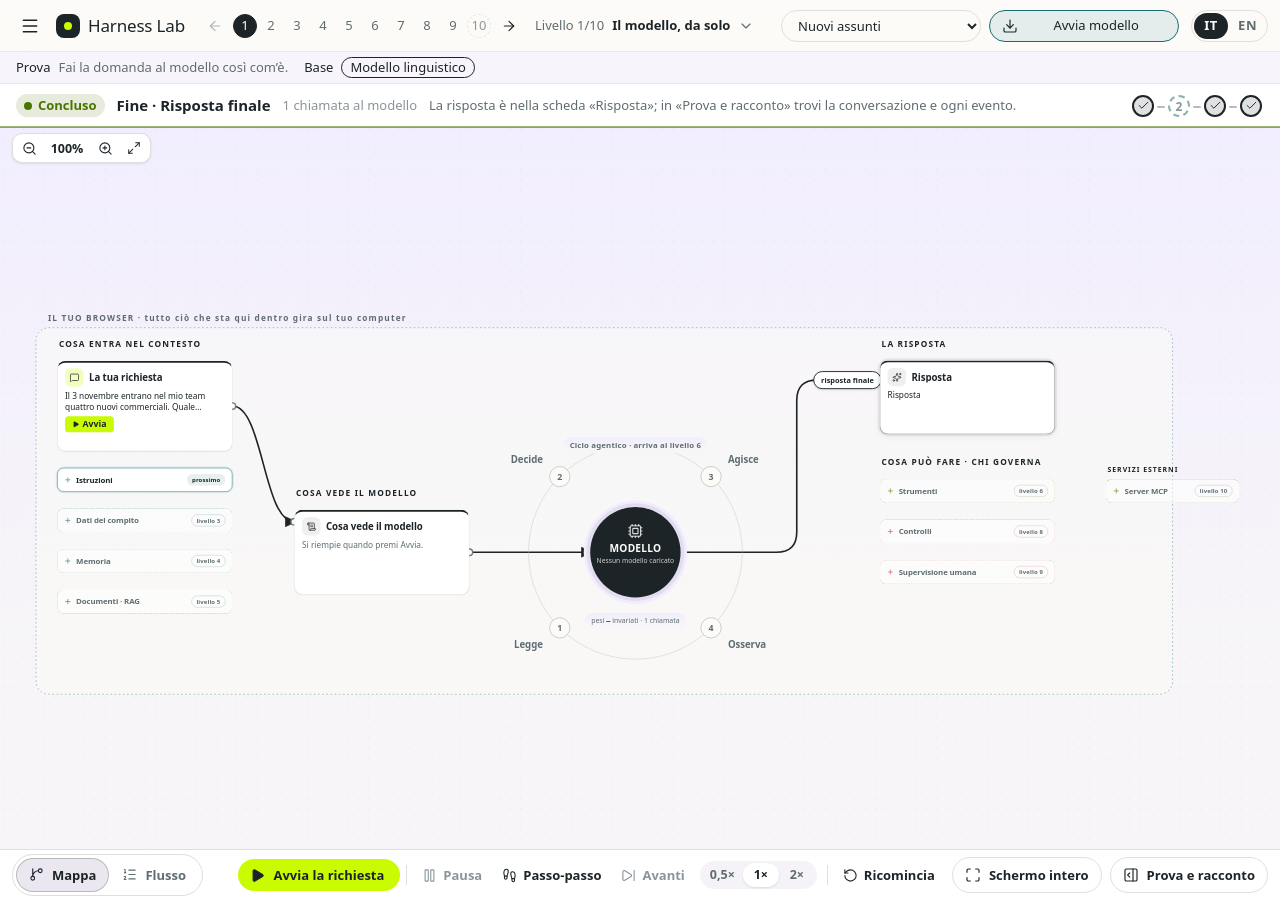
laboratory workspace › shows where the request is and returns the stage to its idle state after a restart
The width and height of the screenshot is (1280, 900).
Expected: the message reads "Fine · Risposta finale", [117,95,271,115]
Click the button "Ricomincia" at (889, 875), box [834,859,944,891]
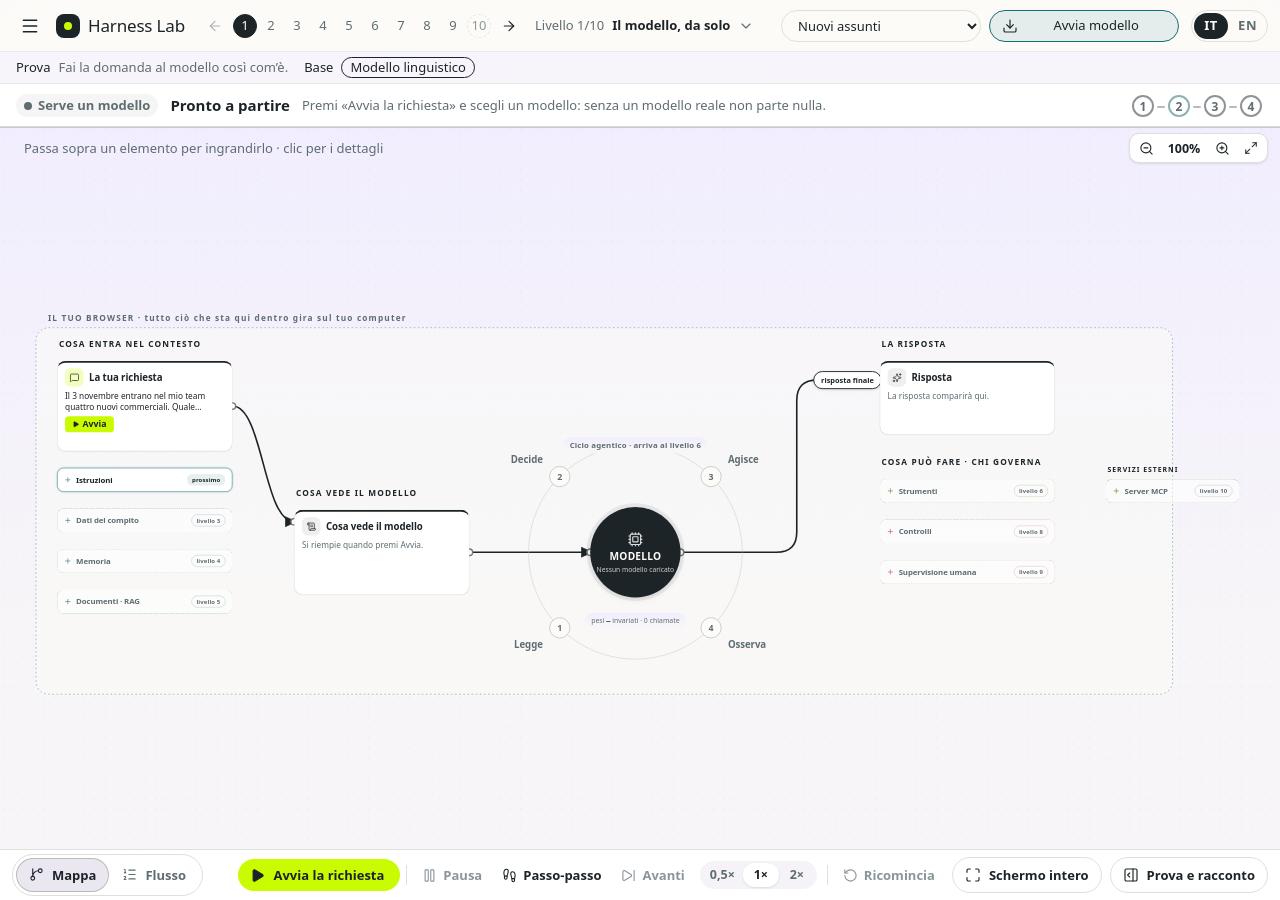
Expected: the message reads "Pronto a partire", [170,95,290,115]
Expected: the button "Ricomincia" is disabled, [834,859,944,891]
